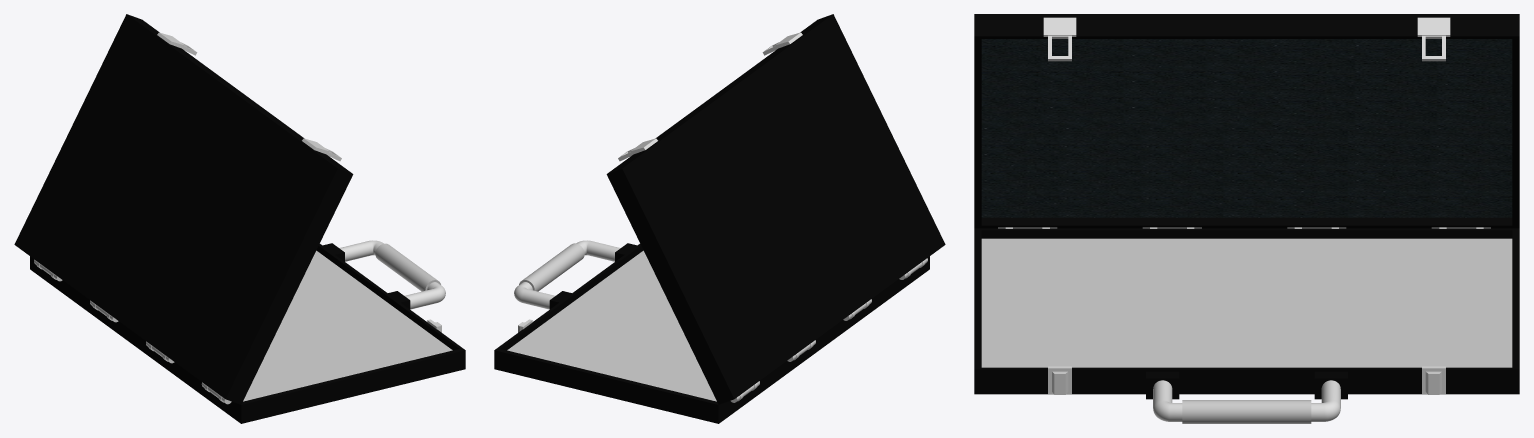
Rendered from box antropemetri.fbx.
The picture shows the model from 3 angles, left to right: view 1: azimuth 30°, elevation 25°; view 2: azimuth 150°, elevation 25°; view 3: azimuth 270°, elevation 25°; orthographic projection. The views are drawn at different scales.
Parts seen in each view (by area): view 1: Cube.004, Cube, Cylinder.002, Cylinder.001, Cylinder, Cube.005; view 2: Cube.004, Cube, Cylinder.002, Cylinder.001, Cylinder, Cube.005; view 3: Cube.004, Cube, Cylinder.002, Cube.005, Cylinder.001, Cube.002, Cube.001.
Part boxes in pixels (box(x1,y1,x2,y2)): Cube.004: box(14, 14, 353, 404); Cube: box(30, 244, 465, 423); Cylinder.002: box(375, 243, 440, 291); Cylinder.001: box(339, 240, 445, 309); Cylinder: box(34, 259, 231, 404); Cube.005: box(157, 32, 341, 161); Cube.004: box(606, 14, 945, 404); Cube: box(494, 244, 929, 423); Cylinder.002: box(519, 243, 584, 291); Cylinder.001: box(514, 240, 620, 309); Cylinder: box(730, 258, 927, 402); Cube.005: box(618, 32, 802, 161); Cube.004: box(974, 14, 1519, 228); Cube: box(974, 228, 1519, 394); Cylinder.002: box(1182, 400, 1311, 423); Cube.005: box(1043, 17, 1450, 61); Cylinder.001: box(1153, 380, 1340, 421); Cube.002: box(1048, 366, 1445, 394); Cube.001: box(1146, 371, 1347, 399).
Size of the model in its own units: 52.85 by 39.51 by 65.19.
